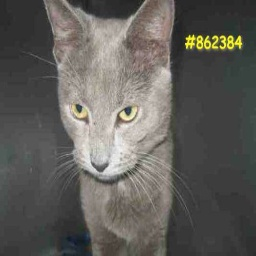cat: (43, 3, 174, 256)
